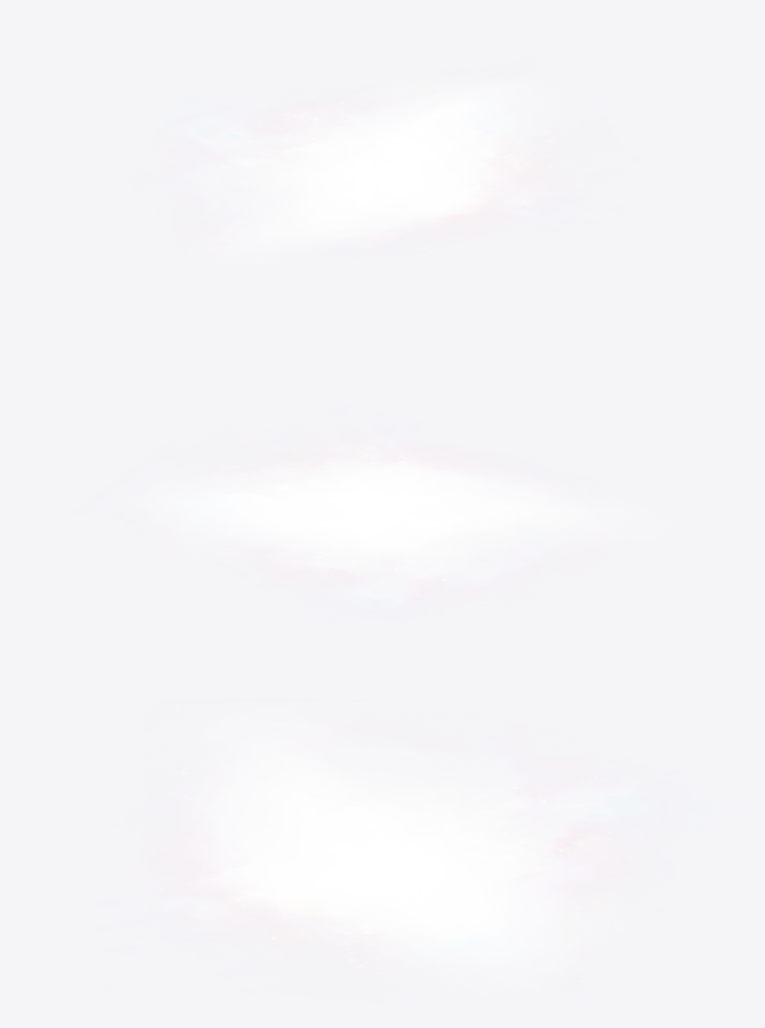
Rendered from galaxy.glb.
The picture shows the model from 3 angles, top to bottom: view 1: azimuth 30°, elevation 25°; view 2: azimuth 150°, elevation 25°; view 3: azimuth 270°, elevation 25°; orthographic projection. The views are drawn at different scales.
Parts seen in each view (by area): view 1: upPlane, downPlane, middlePlane; view 2: upPlane, downPlane, middlePlane; view 3: upPlane, downPlane, middlePlane.
Boxes of the visible parts, <box> form: upPlane: <box>167,80,688,260</box>; downPlane: <box>151,73,686,263</box>; middlePlane: <box>262,80,562,246</box>; upPlane: <box>134,400,640,603</box>; downPlane: <box>122,399,627,607</box>; middlePlane: <box>152,434,566,554</box>; upPlane: <box>133,703,628,1009</box>; downPlane: <box>114,733,653,1004</box>; middlePlane: <box>164,756,617,987</box>.
Size of the model in its own units: 400 by 24.4 by 400.
Materials: 3 (3 with a texture image).
